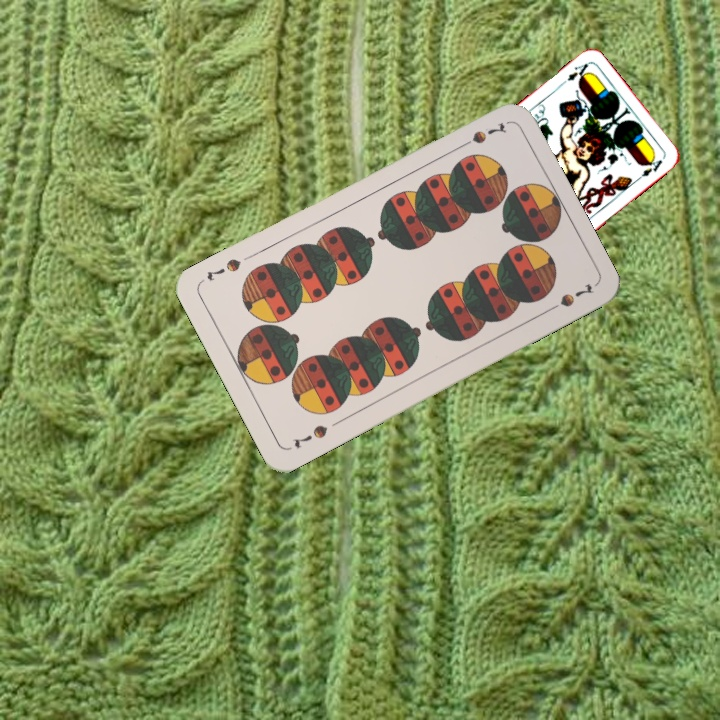EA: (563, 59, 591, 84)
S7: (454, 119, 509, 152), (289, 421, 331, 451)
